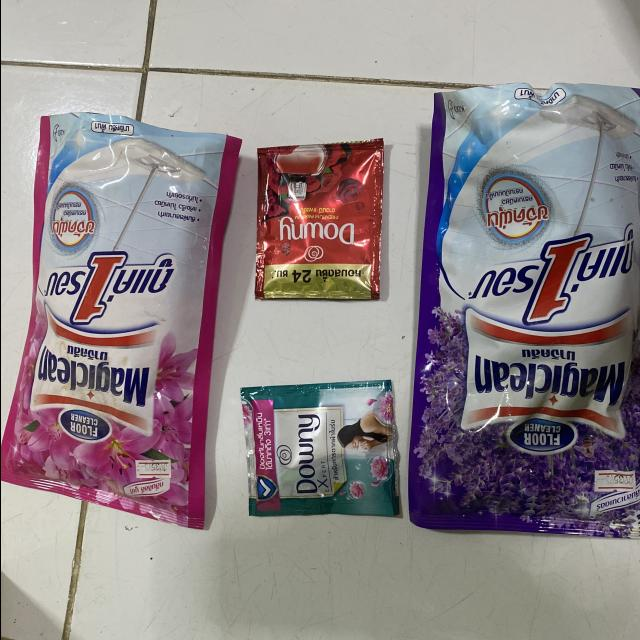plastik: (411, 81, 640, 537), (0, 112, 240, 529), (240, 381, 398, 517), (255, 139, 382, 299)
